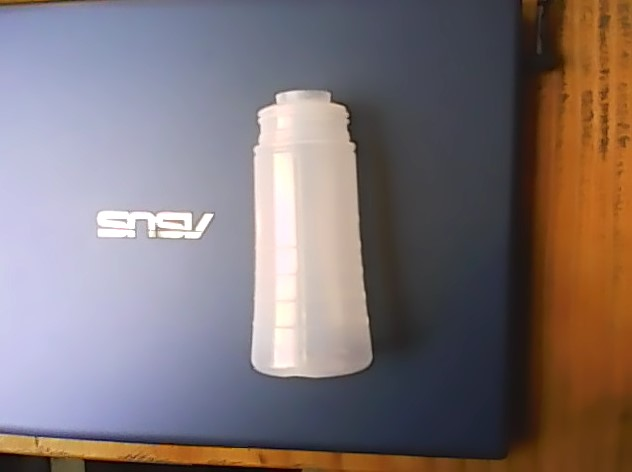Plastic: (246, 85, 379, 381)
